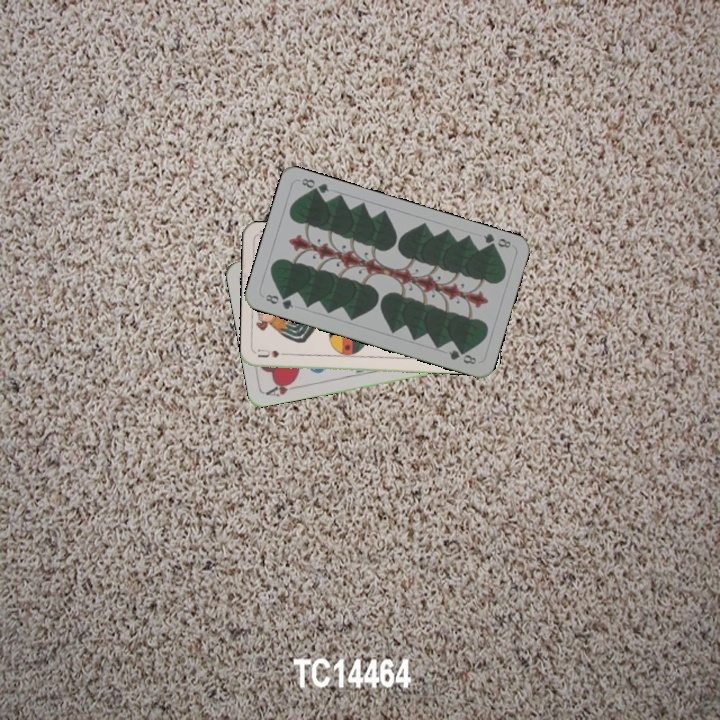G8: (479, 229, 513, 252), (261, 290, 295, 312)
HA: (262, 376, 302, 399)
SU: (255, 346, 295, 360)
